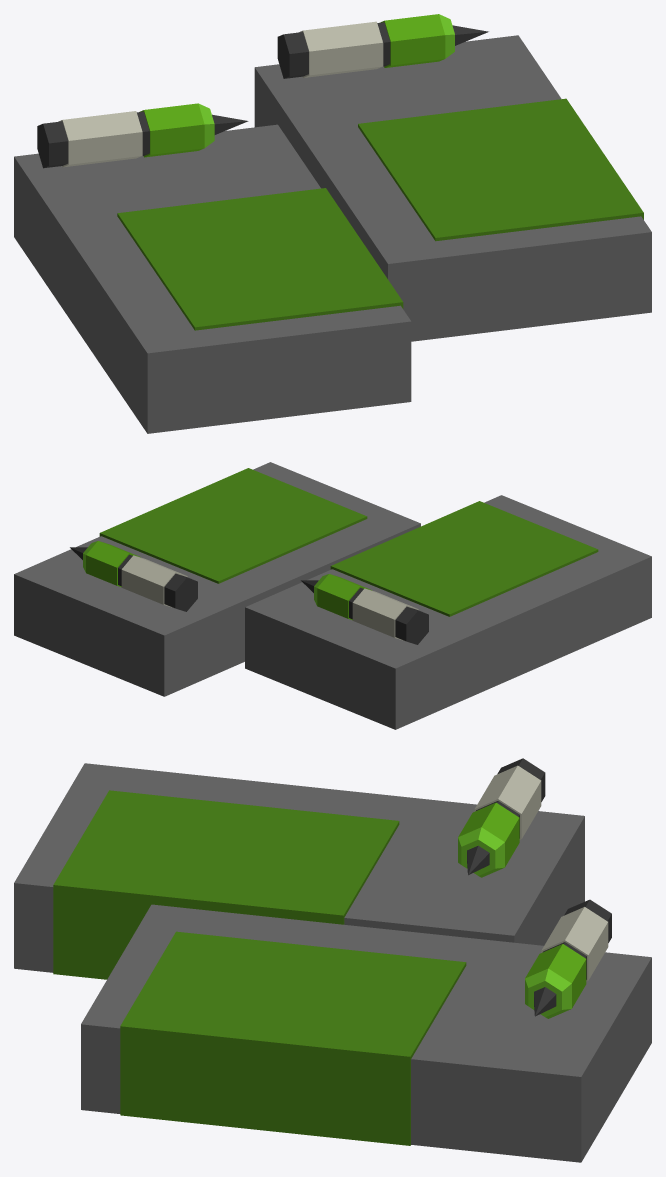
File: ce_ammo_gae_chrifle_fmj_b.obj
3 renders of one model, top to bottom at view 1: azimuth 30°, elevation 25°; view 2: azimuth 150°, elevation 25°; view 3: azimuth 270°, elevation 25°, orthographic. The views are drawn at different scales.
Visible parts, largest first — view 1: ce_ammo_gae_chrifle_fmj_b_0, ce_ammo_gae_chrifle_fmj_b_8, ce_ammo_gae_chrifle_fmj_b_1, ce_ammo_gae_chrifle_fmj_b_9, ce_ammo_gae_chrifle_fmj_b_11, ce_ammo_gae_chrifle_fmj_b_3, ce_ammo_gae_chrifle_fmj_b_13, ce_ammo_gae_chrifle_fmj_b_5, ce_ammo_gae_chrifle_fmj_b_2, ce_ammo_gae_chrifle_fmj_b_10; view 2: ce_ammo_gae_chrifle_fmj_b_0, ce_ammo_gae_chrifle_fmj_b_8, ce_ammo_gae_chrifle_fmj_b_1, ce_ammo_gae_chrifle_fmj_b_9, ce_ammo_gae_chrifle_fmj_b_3, ce_ammo_gae_chrifle_fmj_b_11, ce_ammo_gae_chrifle_fmj_b_5, ce_ammo_gae_chrifle_fmj_b_13, ce_ammo_gae_chrifle_fmj_b_10, ce_ammo_gae_chrifle_fmj_b_2; view 3: ce_ammo_gae_chrifle_fmj_b_9, ce_ammo_gae_chrifle_fmj_b_8, ce_ammo_gae_chrifle_fmj_b_0, ce_ammo_gae_chrifle_fmj_b_1, ce_ammo_gae_chrifle_fmj_b_3, ce_ammo_gae_chrifle_fmj_b_11, ce_ammo_gae_chrifle_fmj_b_13, ce_ammo_gae_chrifle_fmj_b_5, ce_ammo_gae_chrifle_fmj_b_6, ce_ammo_gae_chrifle_fmj_b_14.
Part boxes in pixels (x1,y1,x2,y2): ce_ammo_gae_chrifle_fmj_b_0: [14, 124, 411, 433]; ce_ammo_gae_chrifle_fmj_b_8: [254, 35, 651, 341]; ce_ammo_gae_chrifle_fmj_b_1: [117, 188, 403, 330]; ce_ammo_gae_chrifle_fmj_b_9: [358, 98, 643, 241]; ce_ammo_gae_chrifle_fmj_b_11: [299, 21, 383, 77]; ce_ammo_gae_chrifle_fmj_b_3: [58, 111, 142, 167]; ce_ammo_gae_chrifle_fmj_b_13: [379, 14, 445, 67]; ce_ammo_gae_chrifle_fmj_b_5: [140, 103, 204, 157]; ce_ammo_gae_chrifle_fmj_b_2: [37, 121, 68, 168]; ce_ammo_gae_chrifle_fmj_b_10: [277, 32, 308, 78]; ce_ammo_gae_chrifle_fmj_b_0: [245, 495, 651, 729]; ce_ammo_gae_chrifle_fmj_b_8: [14, 462, 420, 696]; ce_ammo_gae_chrifle_fmj_b_1: [330, 501, 598, 616]; ce_ammo_gae_chrifle_fmj_b_9: [99, 468, 367, 583]; ce_ammo_gae_chrifle_fmj_b_3: [352, 588, 418, 640]; ce_ammo_gae_chrifle_fmj_b_11: [121, 555, 187, 607]; ce_ammo_gae_chrifle_fmj_b_5: [317, 574, 371, 620]; ce_ammo_gae_chrifle_fmj_b_13: [86, 541, 140, 587]; ce_ammo_gae_chrifle_fmj_b_10: [164, 573, 197, 611]; ce_ammo_gae_chrifle_fmj_b_2: [395, 606, 428, 644]; ce_ammo_gae_chrifle_fmj_b_9: [120, 931, 466, 1145]; ce_ammo_gae_chrifle_fmj_b_8: [81, 904, 651, 1162]; ce_ammo_gae_chrifle_fmj_b_0: [14, 763, 584, 972]; ce_ammo_gae_chrifle_fmj_b_1: [53, 790, 399, 979]; ce_ammo_gae_chrifle_fmj_b_3: [474, 765, 541, 839]; ce_ammo_gae_chrifle_fmj_b_11: [541, 907, 608, 981]; ce_ammo_gae_chrifle_fmj_b_13: [525, 944, 586, 1007]; ce_ammo_gae_chrifle_fmj_b_5: [458, 802, 519, 866]; ce_ammo_gae_chrifle_fmj_b_6: [458, 827, 504, 877]; ce_ammo_gae_chrifle_fmj_b_14: [525, 968, 571, 1018].
Bounding box in the file's own units: 0.7776 × 0.1675 × 0.668.
